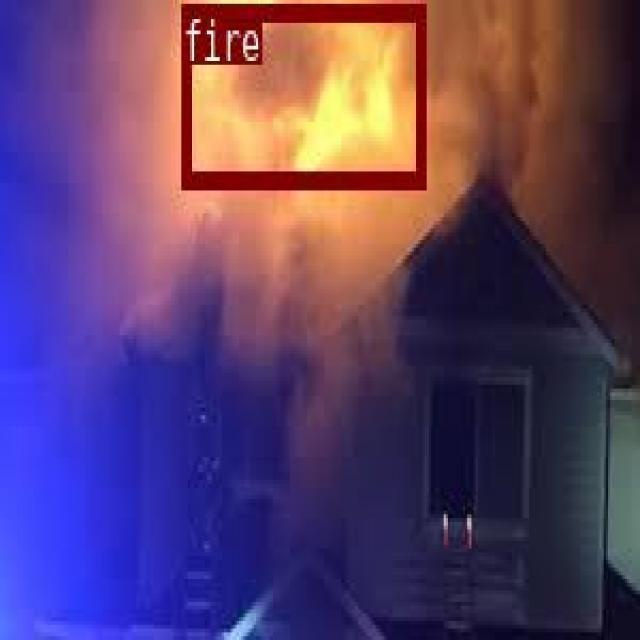fire: (181, 4, 424, 186)
